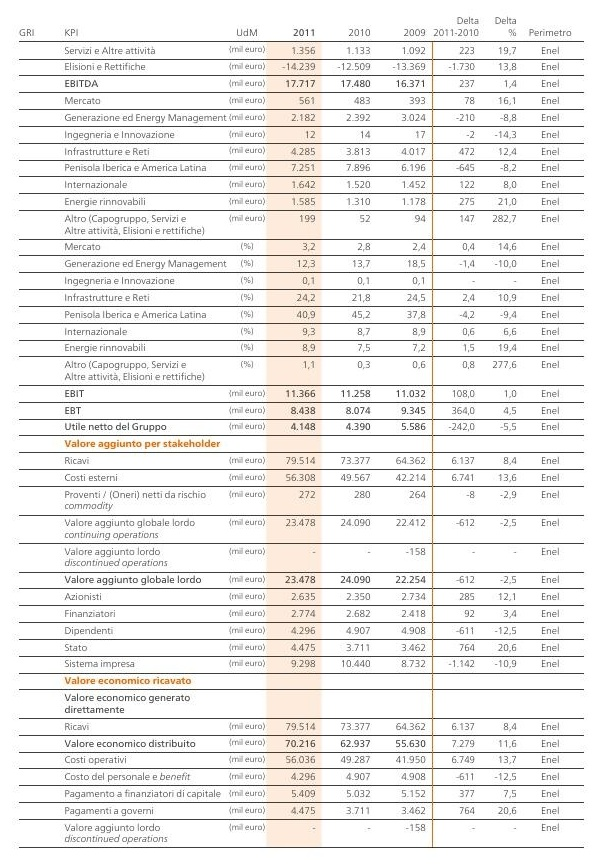table: (0, 0, 603, 868)
